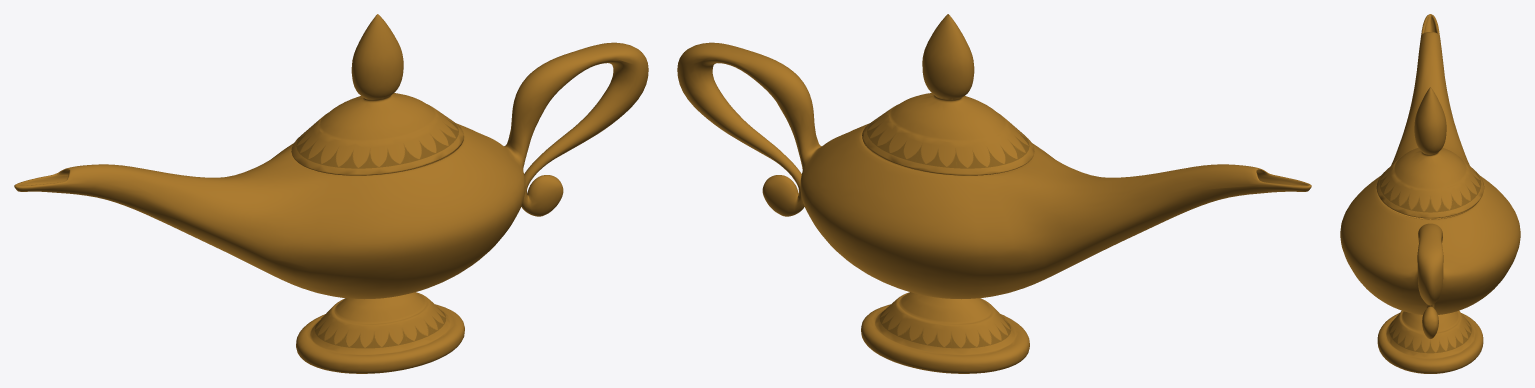
The model's file is alladins-lamp-low.glb.
3 views of the same model, side by side, from view 1: azimuth 30°, elevation 25°; view 2: azimuth 150°, elevation 25°; view 3: azimuth 270°, elevation 25° (orthographic). The views are drawn at different scales.
Parts seen in each view (by area): view 1: Lamp.Lid_0; view 2: Lamp.Lid_0; view 3: Lamp.Lid_0.
Boxes of the visible parts, box(x1,y1,x2,y2) form: Lamp.Lid_0: box(14, 14, 648, 373); Lamp.Lid_0: box(677, 14, 1311, 373); Lamp.Lid_0: box(1340, 14, 1520, 373).
Bounding box in the file's own units: 0.5791 × 0.2904 × 0.1835.
1 material, 1 textured.
